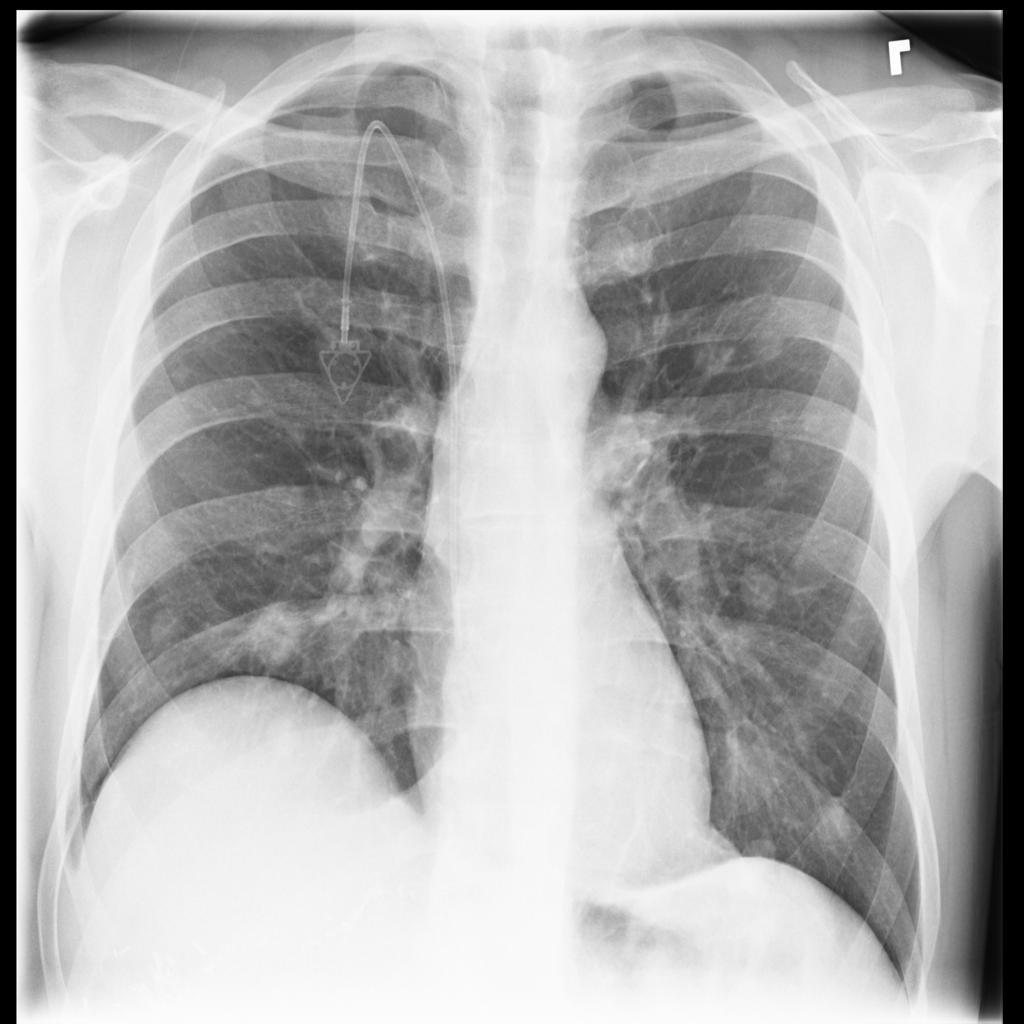nodule: (226, 576, 325, 691), (134, 590, 202, 661), (730, 550, 793, 626), (809, 797, 873, 850), (736, 826, 787, 879), (157, 347, 206, 399)
